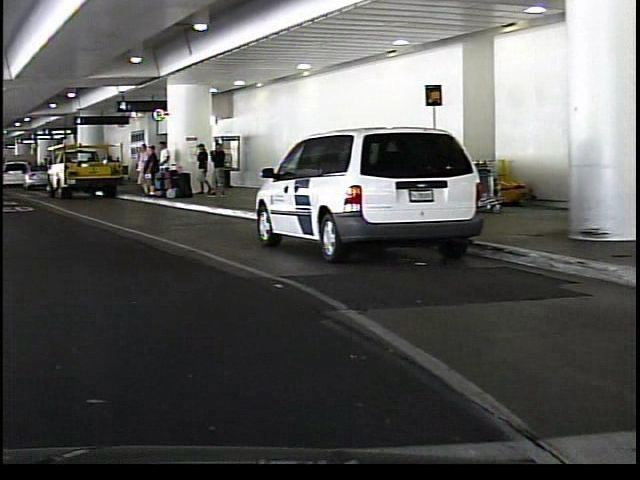person: (206, 139, 224, 199), (128, 141, 143, 198)
